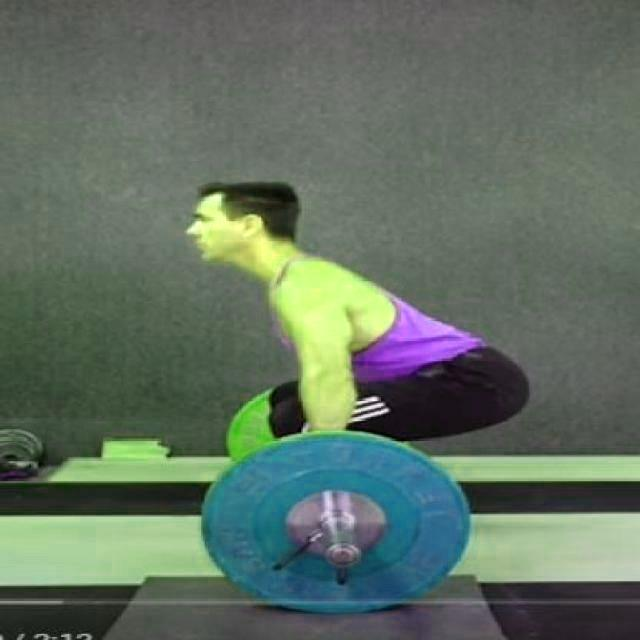barbell: (200, 427, 472, 622)
